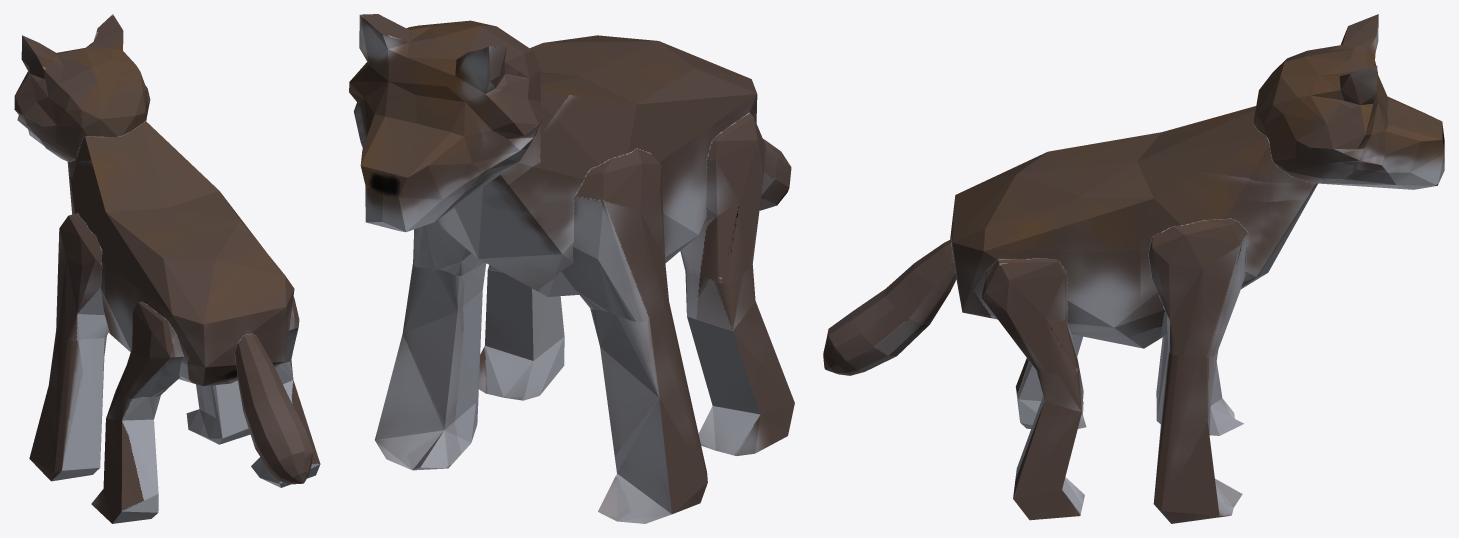
Rendered from wolf.fbx.
3 views of the same model, side by side, from view 1: azimuth 30°, elevation 25°; view 2: azimuth 150°, elevation 25°; view 3: azimuth 270°, elevation 25° (orthographic). The views are drawn at different scales.
Visible parts, largest first — view 1: Wolf Head; view 2: Wolf Head; view 3: Wolf Head.
Part boxes in pixels (x1=…): Wolf Head: x1=14, y1=14, x2=320, y2=523; Wolf Head: x1=349, y1=14, x2=794, y2=523; Wolf Head: x1=823, y1=14, x2=1444, y2=523.
Size of the model in its own units: 74.77 by 127 by 167.
1 material, 1 textured.
